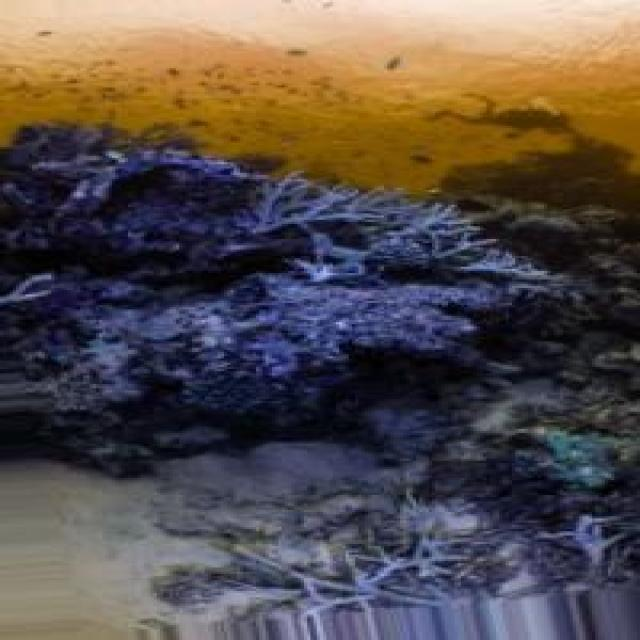Bleached: (270, 502, 462, 605), (510, 447, 640, 592)
Healthy: (1, 127, 567, 479)
